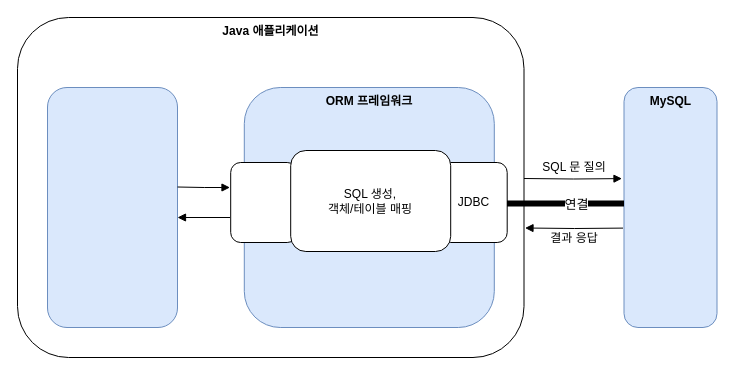
The diagram is 735 pixels wide and 375 high, and some of its shapes have lost their labels. Here are the shapes that lost their labels. From the top down, the centre of each, then its label:
point 112,207: 클래스
point 263,202: Entity Manager
